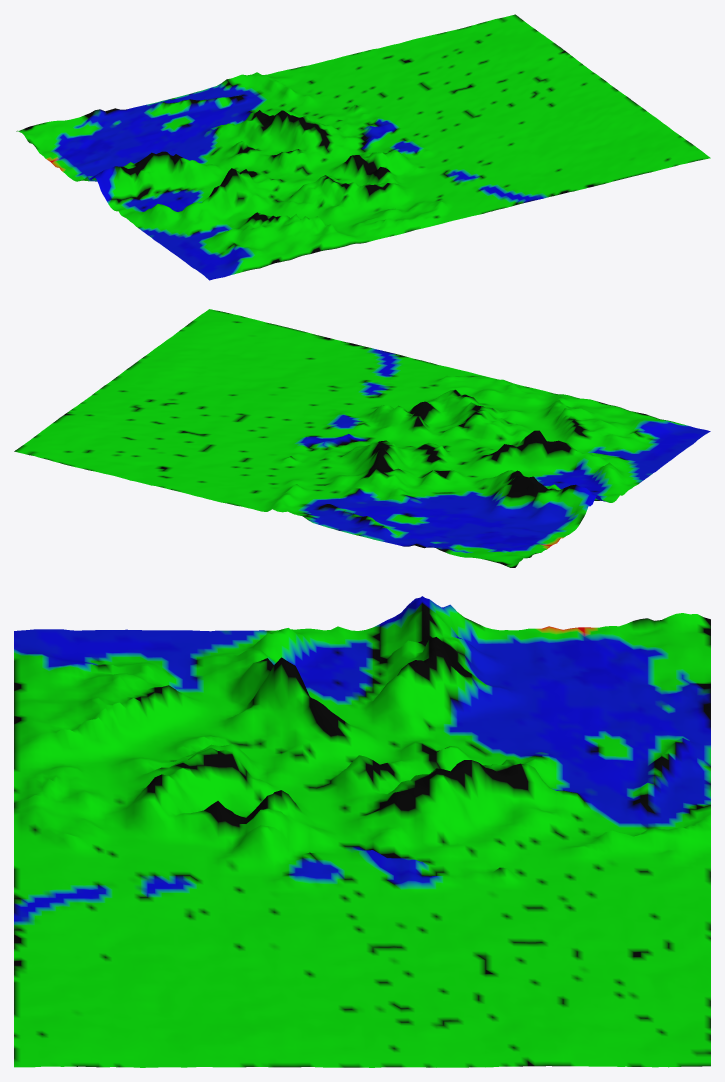
Rendered from Terrain_MainMap_Block_A_02.fbx.
3 views of the same model, one above another, from view 1: azimuth 30°, elevation 25°; view 2: azimuth 150°, elevation 25°; view 3: azimuth 270°, elevation 25° (orthographic). The views are drawn at different scales.
Parts seen in each view (by area): view 1: Terrain_MainMap_Block_A_02; view 2: Terrain_MainMap_Block_A_02; view 3: Terrain_MainMap_Block_A_02.
Part boxes in pixels (box(x1,y1,x2,y2)): Terrain_MainMap_Block_A_02: box(16, 14, 710, 280); Terrain_MainMap_Block_A_02: box(14, 309, 710, 567); Terrain_MainMap_Block_A_02: box(14, 596, 710, 1067).
Bounding box in the file's own units: 40000 × 2497 × 27000.
